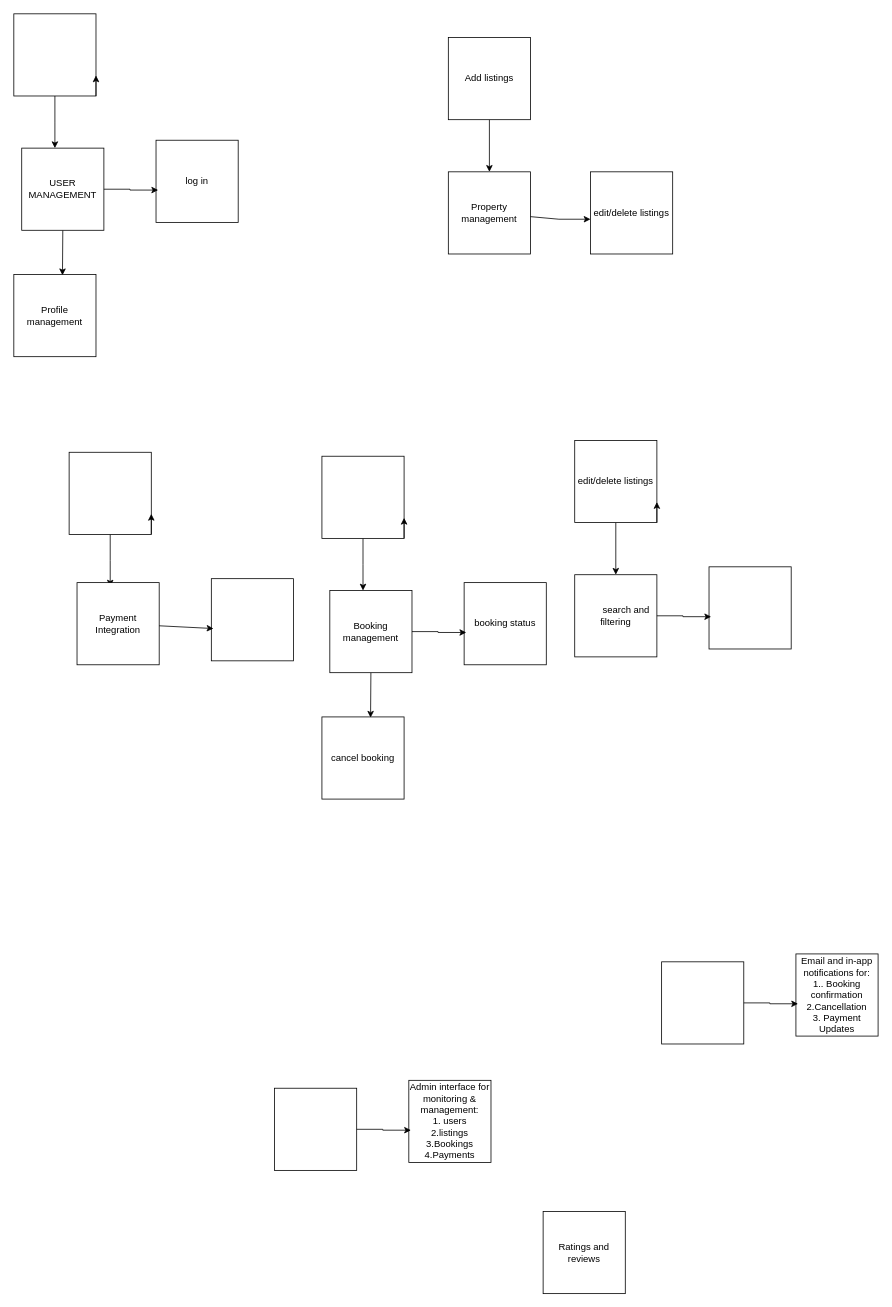
Some shapes in this 892 by 1307 pixel diagram are drawn without their labels. The shapes that lost their labels are listed below. From the top down, each one's centre as x and y in pixels, then its label:
At [54,54]: "Register".
At [109,492]: "secure payment gateways".
At [362,496]: "create booking".
At [252,619]: "support for multiple currencies".
At [749,607]: "search by: 1. price range 2. location 3 numberof guests 4. Amenities".
At [702,1002]: "NOTIFICATION SYSTEM".
At [315,1128]: "ADMIN DASHBOARD".
